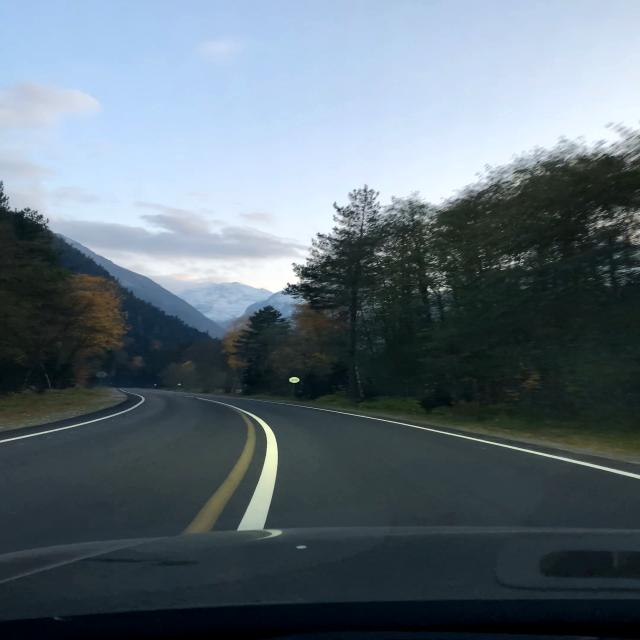lane: (282, 404, 640, 479), (185, 419, 255, 531), (238, 408, 278, 530)
road: (1, 395, 639, 638)
